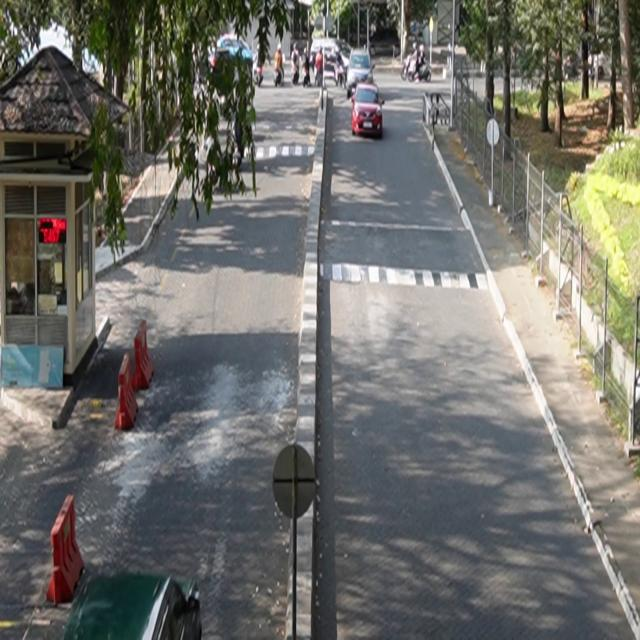car: (351, 83, 386, 139)
